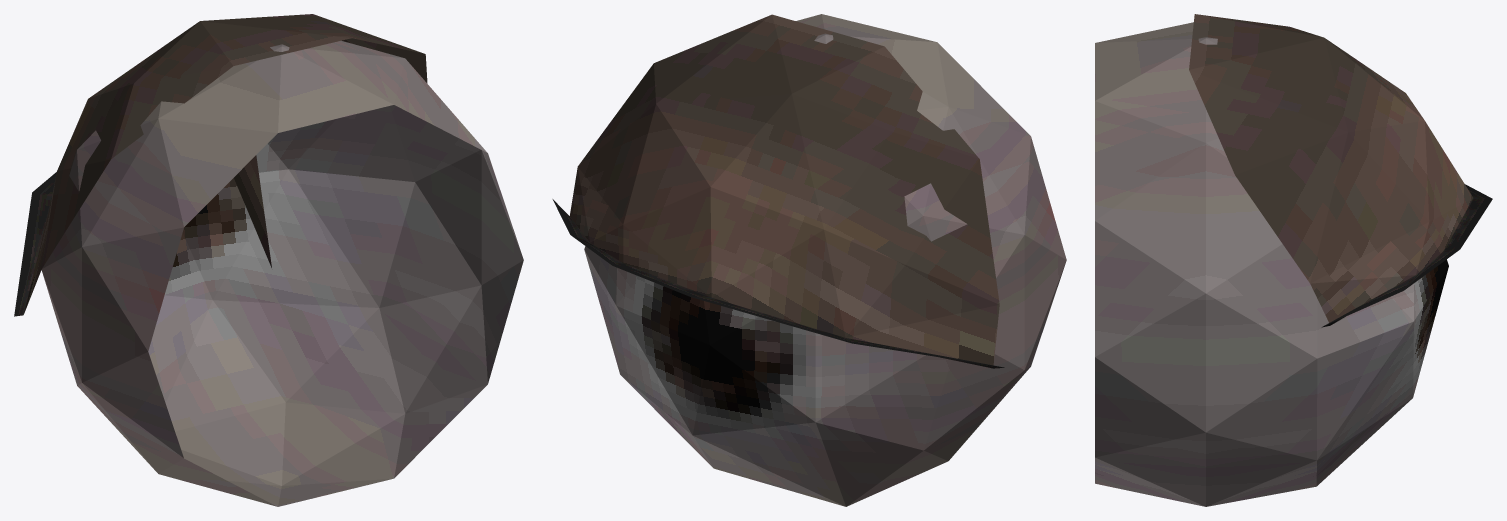
Rendered from recovered_gear_left_eye_7395d9202732.glb.
3 renders of one model, left to right at view 1: azimuth 30°, elevation 25°; view 2: azimuth 150°, elevation 25°; view 3: azimuth 270°, elevation 25°, orthographic. The views are drawn at different scales.
Visible parts, largest first — view 1: left_eye; view 2: left_eye; view 3: left_eye.
Boxes of the visible parts, x1,y1,x2,y2 form: left_eye: (14,14,523,506); left_eye: (552,14,1066,506); left_eye: (1095,14,1492,506).
Bounding box in the file's own units: 0.0305 × 0.029 × 0.0232.
2 materials, 2 textured.
